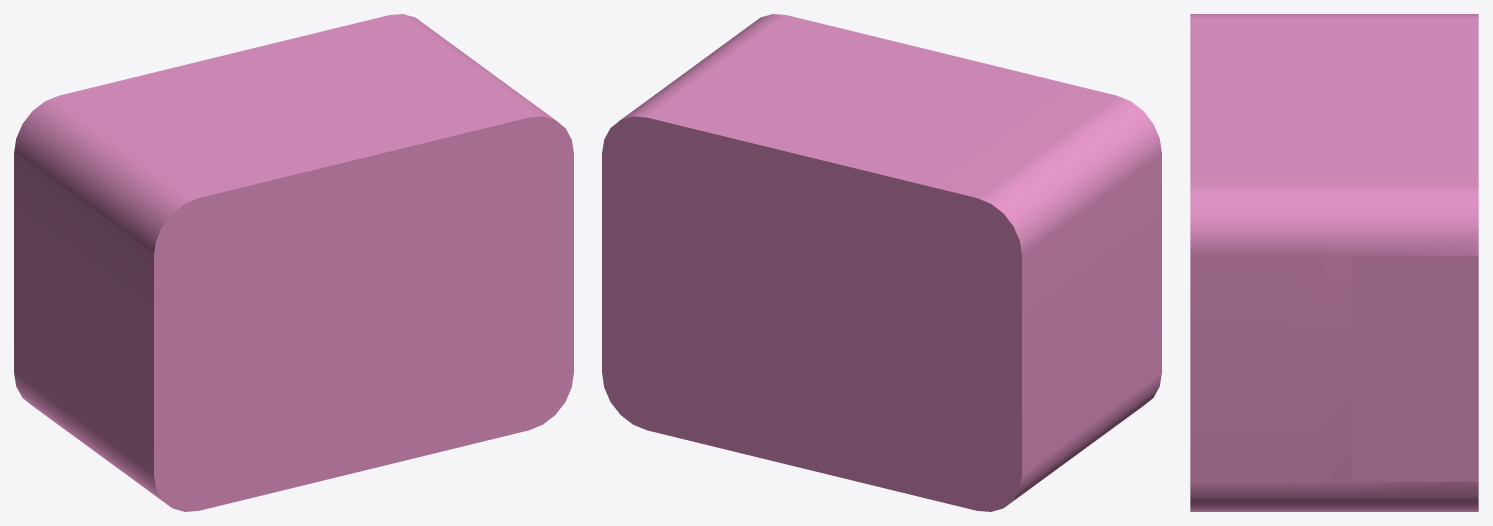
File: kopf.fbx
3 renders of one model, left to right at view 1: azimuth 30°, elevation 25°; view 2: azimuth 150°, elevation 25°; view 3: azimuth 270°, elevation 25°, orthographic. The views are drawn at different scales.
Visible parts, largest first — view 1: polySurface3; view 2: polySurface3; view 3: polySurface3.
Boxes of the visible parts, x1,y1,x2,y2 form: polySurface3: [14, 14, 573, 511]; polySurface3: [602, 14, 1161, 511]; polySurface3: [1190, 14, 1478, 511].
Bounding box in the file's own units: 5.2 × 3.97 × 3.
